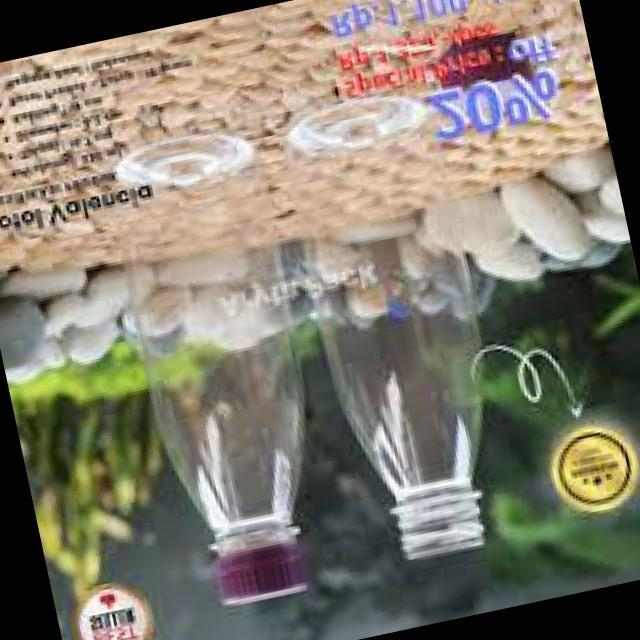good: (60, 132, 366, 634), (278, 76, 537, 586)
